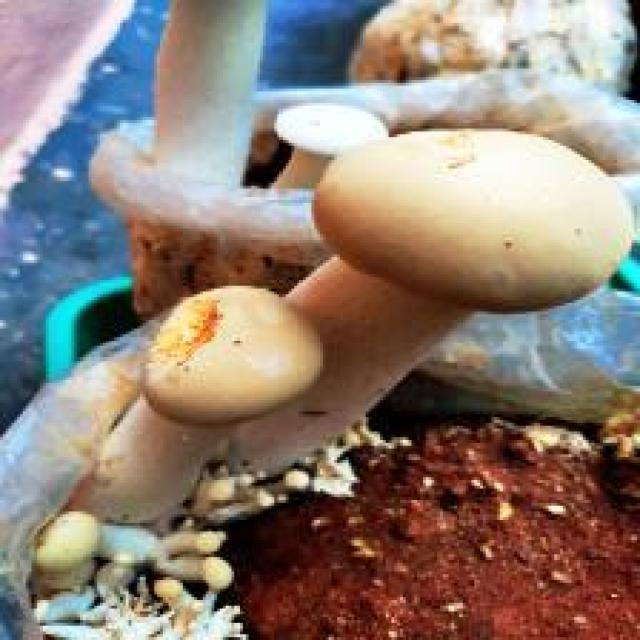death-cap: (314, 123, 637, 311)
